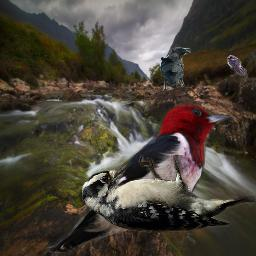Crow: (160, 46, 191, 95)
Swallow: (227, 55, 247, 76)
Woodpecker: (40, 101, 238, 253), (82, 155, 255, 232)
